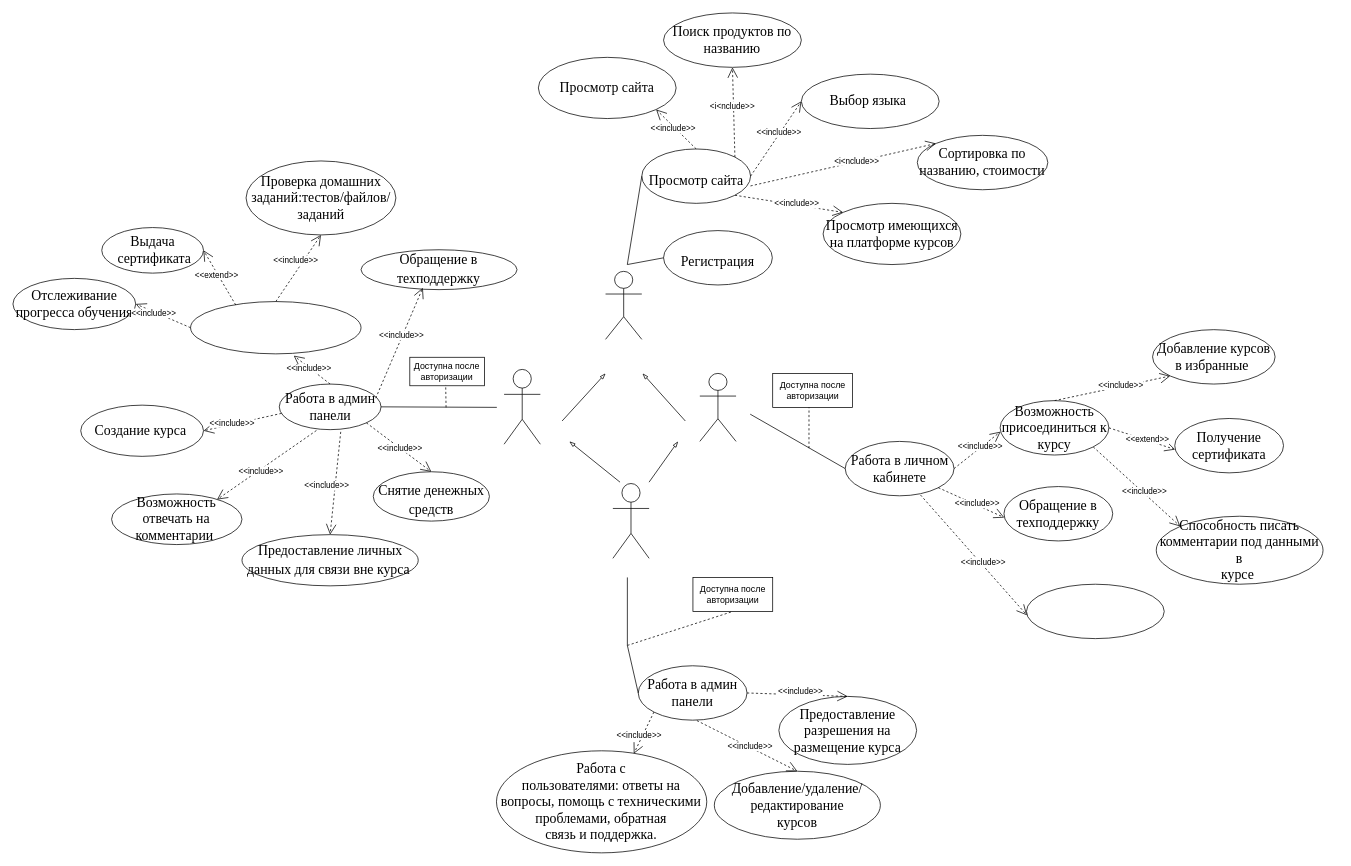
This 1351x866 diagram has some shape labels left out. The centre of each missing label's shape, as x and y in pixels:
Администратор: point (630, 520)
Внесение денежных средств: point (1095, 611)
Гость: point (623, 305)
Преподаватель: point (521, 406)
Работа с курсом: point (275, 327)
Учащийся: point (717, 407)
